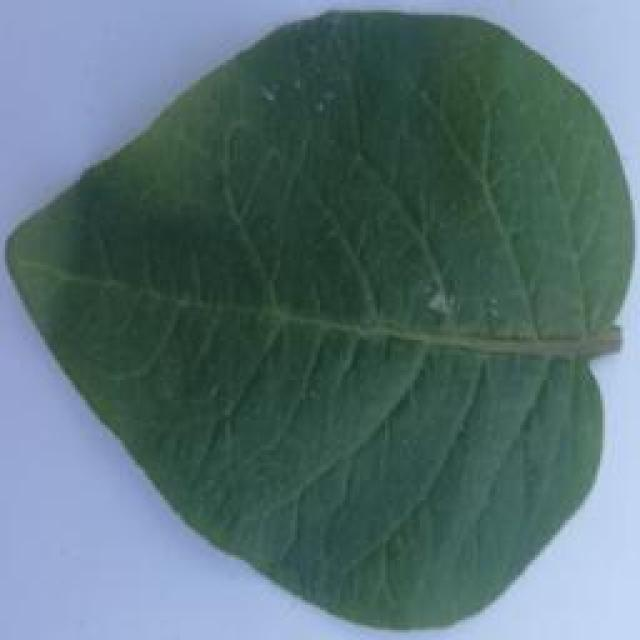Potato_Healthy: (4, 9, 620, 632)
